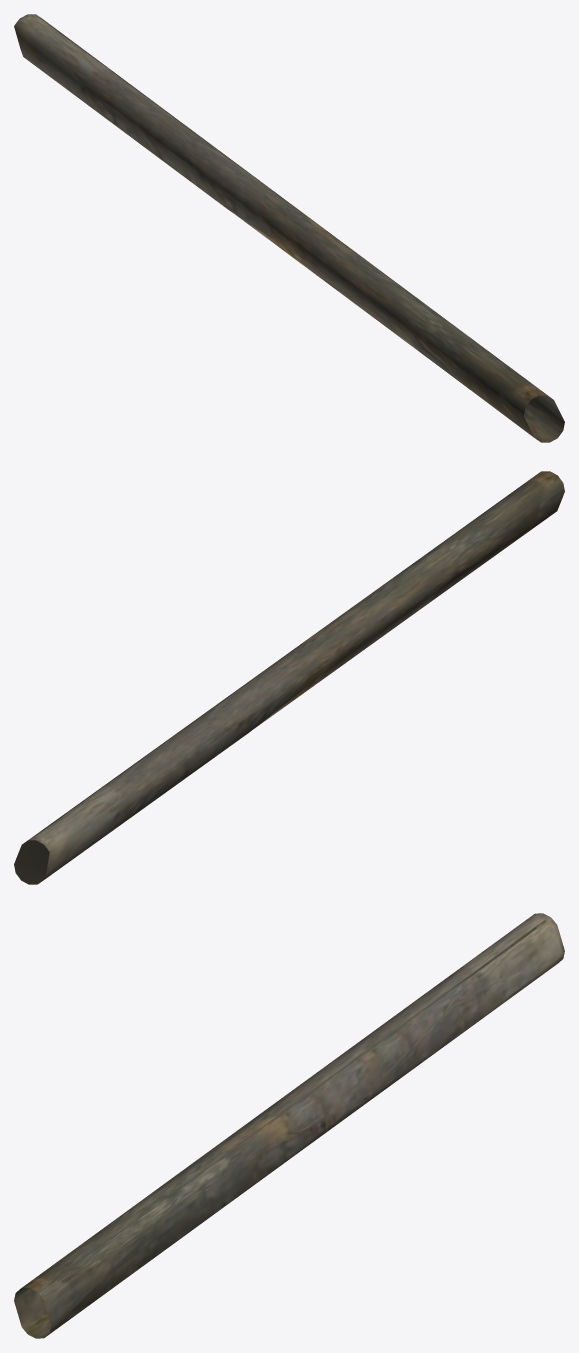
Rendered from staffold.glb.
3 renders of one model, top to bottom at view 1: azimuth 30°, elevation 25°; view 2: azimuth 150°, elevation 25°; view 3: azimuth 330°, elevation 25°, orthographic.
Visible parts, largest first — view 1: staff.ms3d.mo; view 2: staff.ms3d.mo; view 3: staff.ms3d.mo.
Boxes of the visible parts, left/top/right/bottom form: staff.ms3d.mo: left=14, top=14, right=564, bottom=442; staff.ms3d.mo: left=14, top=471, right=564, bottom=884; staff.ms3d.mo: left=14, top=913, right=564, bottom=1338.
Size of the model in its own units: 1.64 by 1.83 by 33.63.
1 material, 1 textured.
